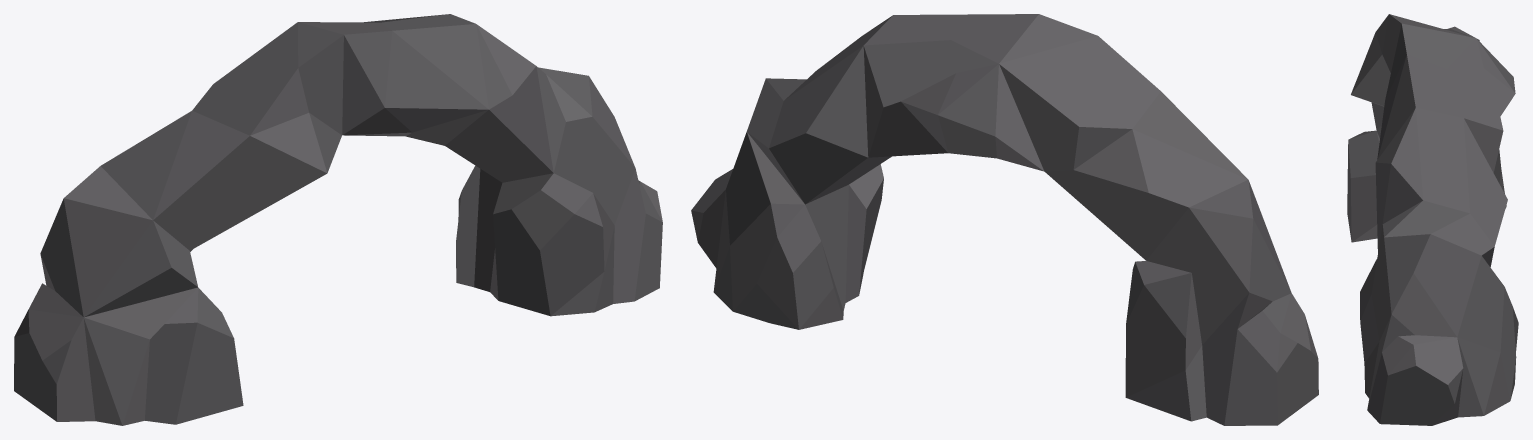
File: mesh_rock_05.fbx
The picture shows the model from 3 angles, left to right: view 1: azimuth 30°, elevation 25°; view 2: azimuth 150°, elevation 25°; view 3: azimuth 270°, elevation 25°; orthographic projection. The views are drawn at different scales.
Visible parts, largest first — view 1: mesh_rock_05; view 2: mesh_rock_05; view 3: mesh_rock_05.
Part boxes in pixels (bbox=[...]): mesh_rock_05: bbox=[14, 14, 662, 425]; mesh_rock_05: bbox=[691, 14, 1318, 425]; mesh_rock_05: bbox=[1347, 14, 1518, 425].
Size of the model in its own units: 1600 by 787 by 448.
